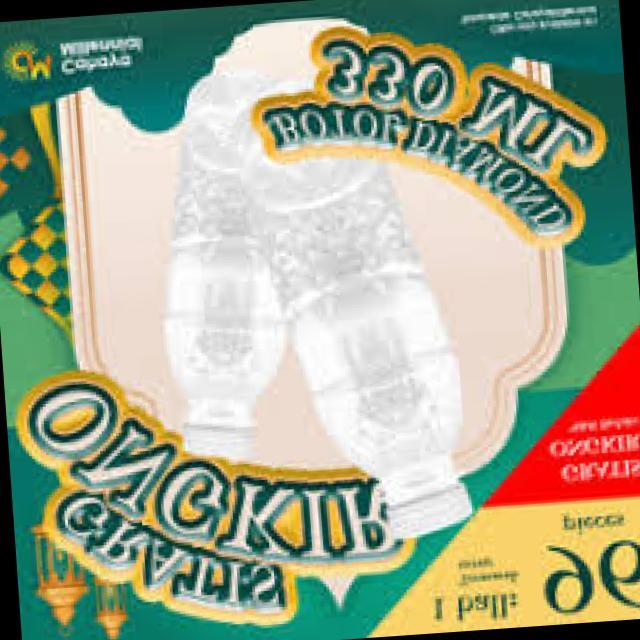good: (271, 108, 478, 540), (132, 140, 307, 486)
